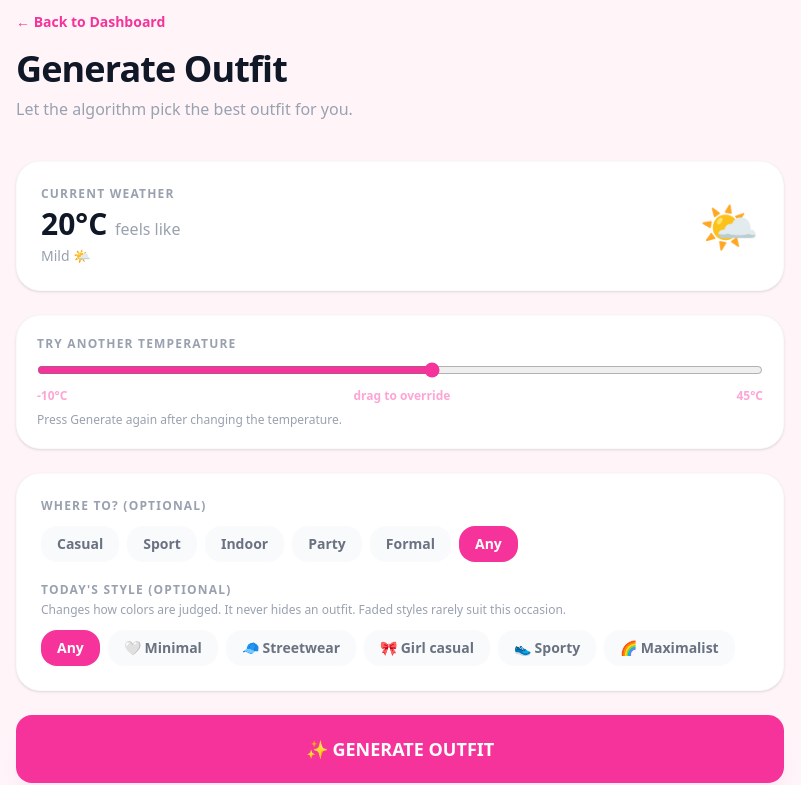
Suggest page: weather › a manual temperature replaces the real weather until it is reset
The width and height of the screenshot is (801, 785).
Set the slider to "5" at (239, 370), box [37,362,763,378]
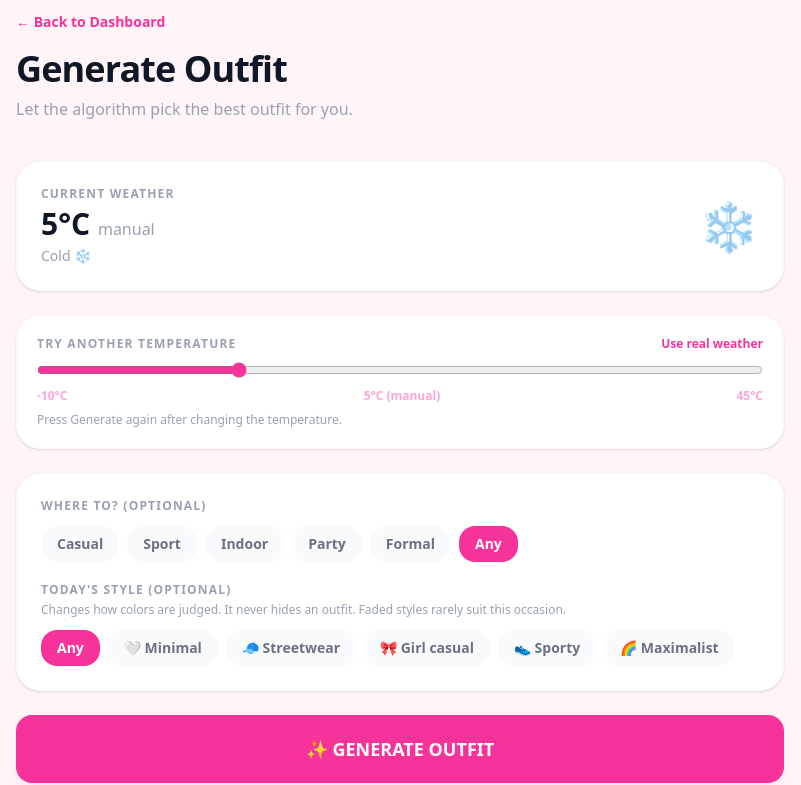
Expected: the text "manual" is shown, [98,218,155,240]
Expected: the text "Cold" is shown, [41,246,91,265]
Expected: the button "Use real weather" is shown
Click the button "Use real weather" at (712, 344), box [661,336,763,352]
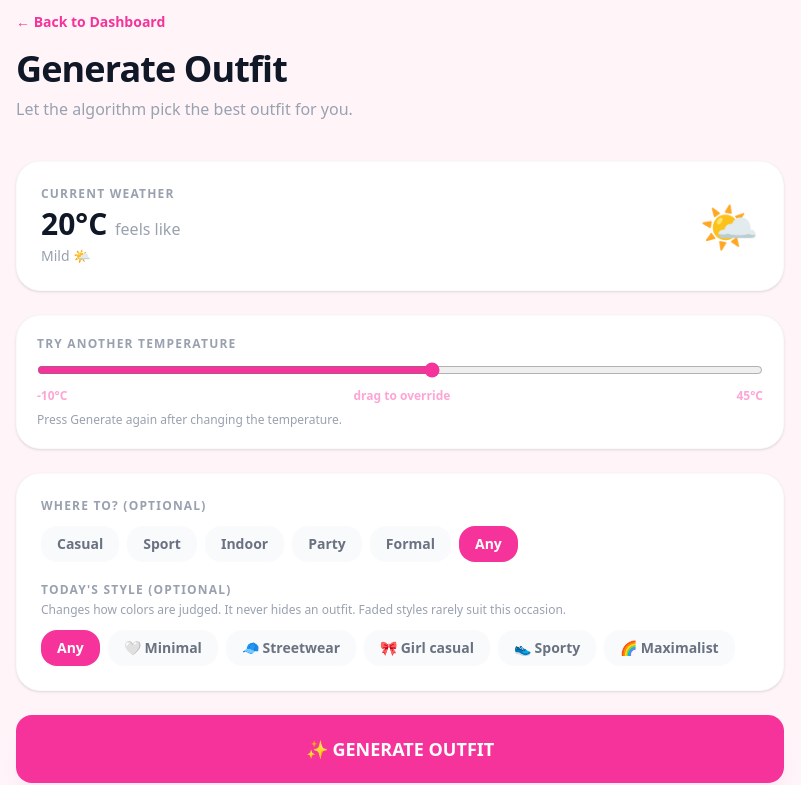
Expected: the text "20°C" is shown, [41,203,115,244]
